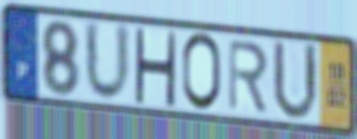8: (40, 17, 83, 99)
H: (132, 25, 178, 110)
O: (180, 30, 223, 114)
R: (226, 38, 270, 116)
U: (82, 17, 133, 106), (271, 36, 321, 125)
